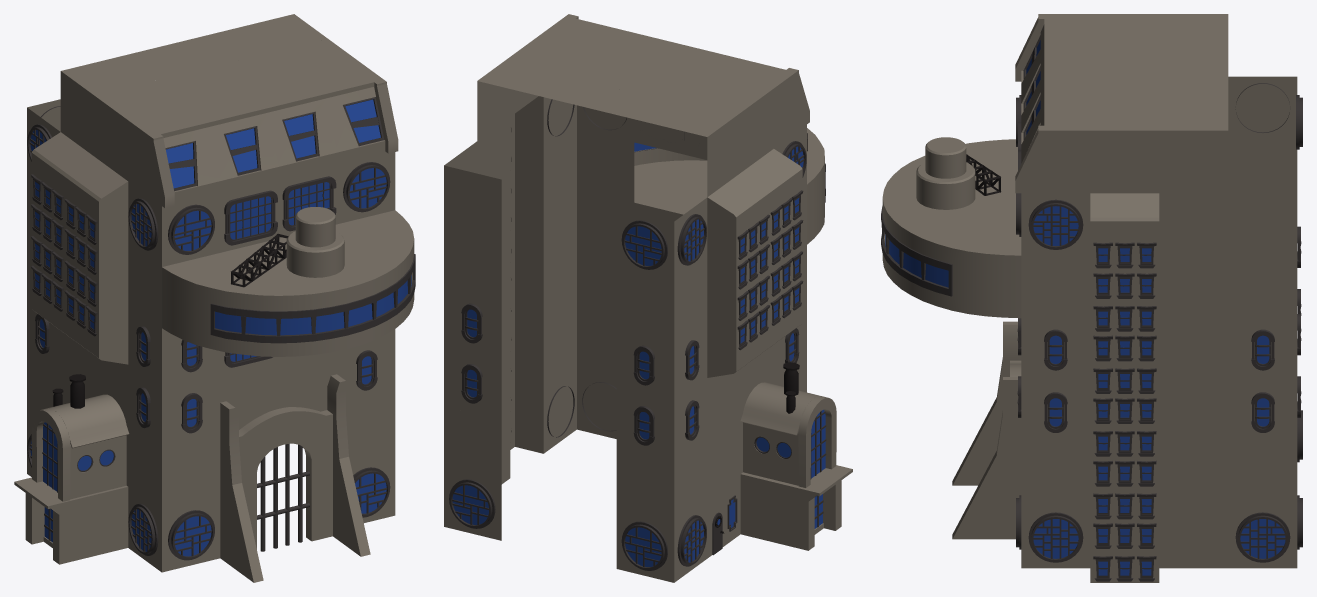
The model's file is Batiment_03.FBX.
3 renders of one model, left to right at view 1: azimuth 30°, elevation 25°; view 2: azimuth 150°, elevation 25°; view 3: azimuth 270°, elevation 25°, orthographic. The views are drawn at different scales.
Visible parts, largest first — view 1: Batiment_03_LOD0; view 2: Batiment_03_LOD0; view 3: Batiment_03_LOD0.
Part boxes in pixels (x1=…): Batiment_03_LOD0: x1=14, y1=14, x2=415, y2=582; Batiment_03_LOD0: x1=444, y1=14, x2=852, y2=582; Batiment_03_LOD0: x1=881, y1=14, x2=1302, y2=582.
Size of the model in its own units: 2365 by 2800 by 2444.
